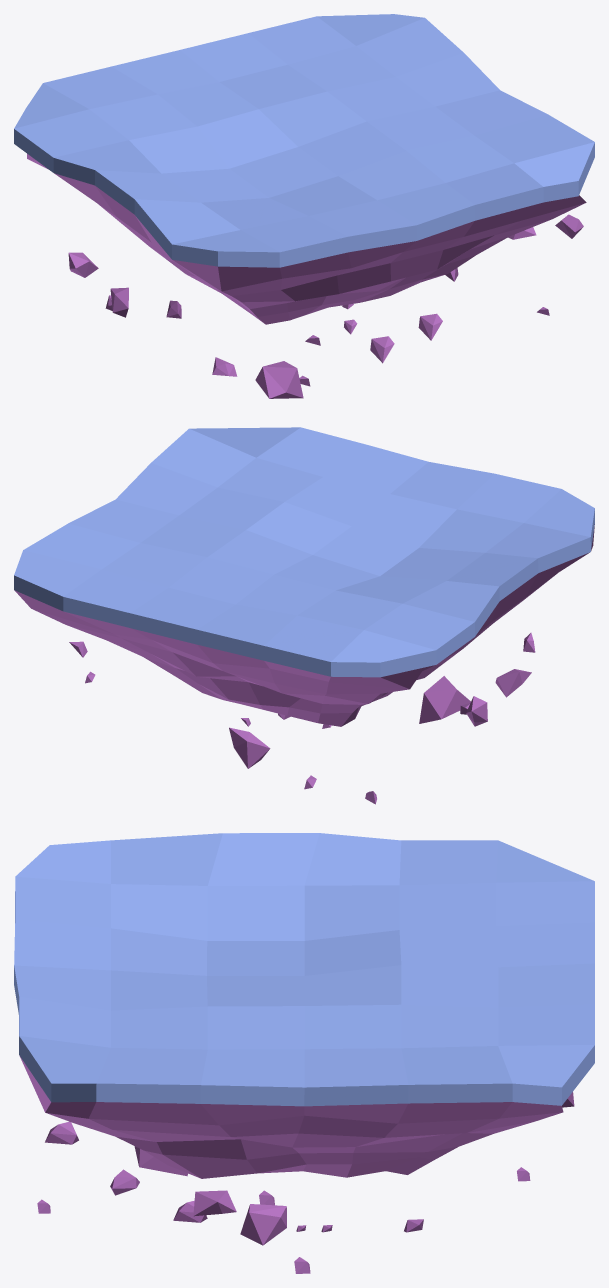
File: Floating Rock.fbx
3 renders of one model, top to bottom at view 1: azimuth 30°, elevation 25°; view 2: azimuth 150°, elevation 25°; view 3: azimuth 270°, elevation 25°, orthographic. The views are drawn at different scales.
Parts seen in each view (by area): view 1: floating rock; view 2: floating rock; view 3: floating rock.
Part boxes in pixels (<box>): floating rock: <box>14,14,594,398</box>; floating rock: <box>14,427,594,804</box>; floating rock: <box>14,833,594,1273</box>.
Size of the model in its own units: 2571 by 1470 by 2427.
